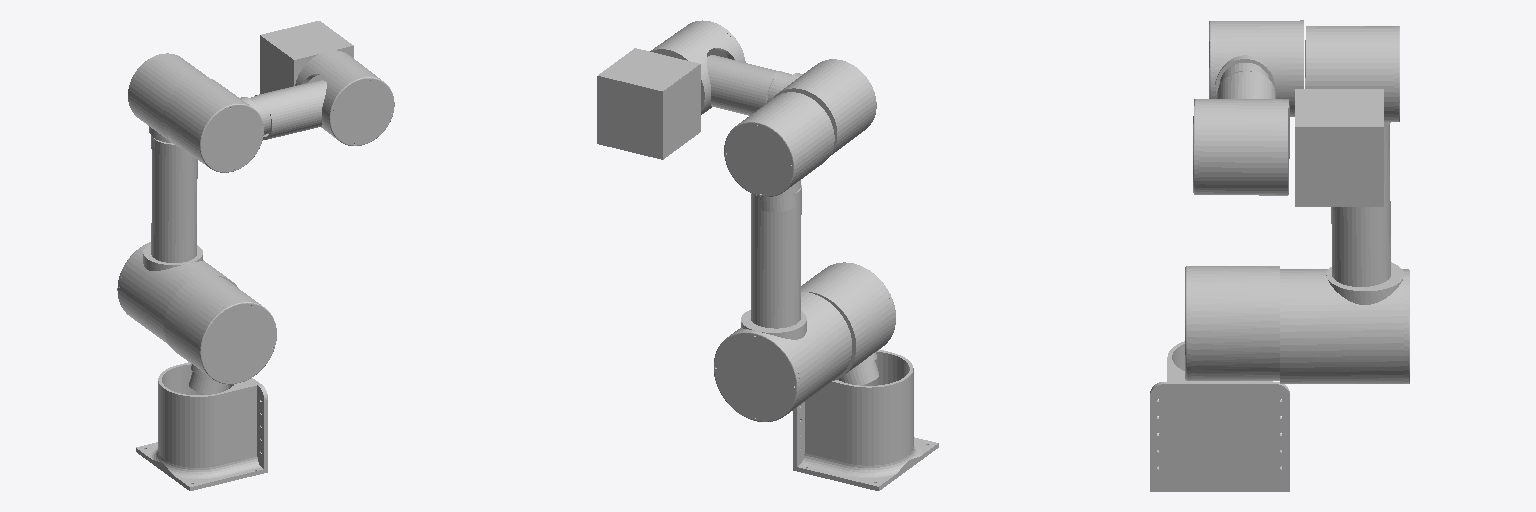
The robot description file, URDF, robot "rover_arm":
<?xml version="1.0"?>
<robot name="rover_arm">
  <material name="mat_silver">
    <color rgba="0.8 0.8 0.8 1"/>
  </material>

  <link name="world" />
  
  
  
  

  <link name="base_link">
    <visual>
      <origin xyz="0 0 0.07" rpy="3.1415 0 0"/>
      <geometry>
        <mesh filename="package://rover_arm/meshes/Joint1.stl" scale="1 1 1"/>
      </geometry>
      <material name="mat_silver"/>
    </visual>
    <visual>
      <origin xyz="0.02 0.017 0.23" rpy="-1.5707 0.16 0"/>
      <geometry>
        <mesh filename="package://rover_arm/meshes/Connector1.stl" scale="1 1 1"/>
      </geometry>
      <material name="mat_silver"/>
    </visual>
    <collision>
      <origin xyz="0 0 0.16" rpy="0 0 0" />
      <geometry>
        <box size="0.15 0.15 0.32" />
      </geometry>
    </collision>
    <inertial>
      <mass value="10"/>
      <inertia ixx="0.002" ixy="0.0" ixz="0.0" iyy="0.002" iyz="0.0" izz="0.0005"/>
    </inertial>
  </link>

  <link name="link1">
    <visual>
      <origin xyz="0 0 0" rpy="-1.568 -1.2 0 " />
      <geometry>
         <mesh filename="package://rover_arm/meshes/Joint2.stl" scale="1 1 1"/>
      </geometry>
      <material name="mat_silver" />
    </visual>
    <visual>
      <origin xyz="0 0.01 0.19" rpy="-1.56 0 0" />
      <geometry>
        <mesh filename="package://rover_arm/meshes/Link1.stl" scale="1 1 1"/>
      </geometry>
      <material name="mat_silver" />
    </visual>
    <visual>
      <origin xyz="0 0 0.363" rpy="1.568 0 0" />
      <geometry>
         <mesh filename="package://rover_arm/meshes/Connector2.stl" scale="1 1 1"/>
      </geometry>
      <material name="mat_silver" />
    </visual>
    <collision>
      <origin xyz="0 0 0.18" rpy="0 0 0" />
      <geometry>
       <box size="0.14 0.135 0.53" />
      </geometry>
    </collision>
    <inertial>
      <mass value="1"/>
      <inertia ixx="0.0004" ixy="0.0" ixz="0.0" iyy="0.0006" iyz="0.0" izz="0.00004"/>
    </inertial>
  </link>

  <link name="link2">
    <visual>
      <origin xyz="0.01 0.08 0.001" rpy="1.57 3.3 0.01" />
      <geometry>
        <mesh filename="package://rover_arm/meshes/Joint3.stl" scale="1 1 1"/>
     </geometry>
     <material name="mat_silver" />
    </visual>
    <visual>
      <origin xyz="0.15 0.075 0" rpy="0 0 1.56" />
      <geometry>
        <mesh filename="package://rover_arm/meshes/Link2.stl" scale="1 1 1"/>
     </geometry>
     <material name="mat_silver" />
    </visual>
    <visual>
     <origin xyz="0.255 0.07 0" rpy="1.55 -1.6 0" />
     <geometry>
        <mesh filename="package://rover_arm/meshes/Connector3.stl" scale="1 1 1"/>
     </geometry>
     <material name="mat_silver" />
    </visual>
    <collision>
      <origin xyz="0.13 0.05 0" rpy="0 0 0" />
      <geometry>
       <box size="0.385 0.14 0.15" />
     </geometry>
    </collision>
    <inertial>
     <mass value="1"/>
     <inertia ixx="0.00004" ixy="0.0" ixz="0.0" iyy="0.0003" iyz="0.0" izz="0.0003"/>
   </inertial>
  </link>

  <link name="link3">
    <visual>
        <origin xyz="0 0.001 0" rpy="0 0 0" />
        <geometry>
         <box size="0.12 0.12 0.12" />
        </geometry>
        <material name="mat_silver" />
    </visual>
    <collision>
      <origin xyz="0 0.01 0" rpy="0 0 0" />
      <geometry>
        <box size="0.12 0.12 0.12" />
      </geometry>
    </collision>
    <inertial>
      <mass value="1"/>
      <inertia ixx="0.000042" ixy="0.0" ixz="0.0" iyy="0.000042" iyz="0.0" izz="0.000042"/>
    </inertial>
  </link>

  <joint name="joint1" type="continuous">
    <parent link="world" />
    <child link="base_link" />
    <origin xyz="0 0 0" rpy="0 0 0" />
    <axis xyz="0 0 1" />
    <limit velocity="100" effort="100" />
    
  </joint>

  <joint name="joint2" type="revolute">
    <parent link="base_link" />
    <child link="link1" />
    <origin xyz="0.03 0.18 0.24" rpy="0 0 0" />
    <axis xyz="0 -1 0" />
    <limit lower="-1.5707" upper="0" velocity="100" effort="100" />
  </joint>

  <joint name="joint3" type="revolute">
    <parent link="link1" />
    <child link="link2" />
    <origin xyz="0 -0.22 0.38" rpy="0 0 0" />
    <axis xyz="0 1 0" />
    <limit lower="-1.5707" upper="1.5707" velocity="100" effort="100" />
  </joint>

  <joint name="joint4" type="revolute">
      <parent link="link2" />
      <child link="link3" />
      <origin xyz="0.25 0.2 0" rpy="0 0 0" />
      <axis xyz="0 1 0" />
      <limit lower="-1.5707" upper="1.5707" velocity="100" effort="100" />
  </joint>

  <transmission name="tran1">
    <type>transmission_interface/SimpleTransmission</type>
    <joint name="joint1">
      <hardwareInterface>hardware_interface/EffortJointInterface</hardwareInterface>
    </joint>
    <actuator name="motor1">
      <hardwareInterface>hardware_interface/EffortJointInterface</hardwareInterface>
      <mechanicalReduction>1</mechanicalReduction>
    </actuator>
  </transmission>

  <transmission name="tran2">
    <type>transmission_interface/SimpleTransmission</type>
    <joint name="joint2">
      <hardwareInterface>hardware_interface/EffortJointInterface</hardwareInterface>
    </joint>
    <actuator name="motor2">
      <hardwareInterface>hardware_interface/EffortJointInterface</hardwareInterface>
      <mechanicalReduction>1</mechanicalReduction>
    </actuator>
  </transmission>

  <transmission name="tran3">
    <type>transmission_interface/SimpleTransmission</type>
    <joint name="joint3">
      <hardwareInterface>hardware_interface/EffortJointInterface</hardwareInterface>
    </joint>
    <actuator name="motor3">
      <hardwareInterface>hardware_interface/EffortJointInterface</hardwareInterface>
      <mechanicalReduction>1</mechanicalReduction>
    </actuator>
  </transmission>

  
  <transmission name="tran4">
    <type>transmission_interface/SimpleTransmission</type>
    <joint name="joint4">
      <hardwareInterface>hardware_interface/EffortJointInterface</hardwareInterface>
    </joint>
    <actuator name="motor4">
      <hardwareInterface>hardware_interface/EffortJointInterface</hardwareInterface>
      <mechanicalReduction>1</mechanicalReduction>
    </actuator>
  </transmission>
  
  <gazebo>
    <plugin name="gazebo_ros_control" filename="libgazebo_ros_control.so">
      <robotNamespace>/</robotNamespace>
    </plugin>
  </gazebo>

  
 
</robot>

--- What the picture shows (computed from the rendered views, not written in the file) ---
3 views of the same robot in one strip: view 1: azimuth 30°, elevation 25°; view 2: azimuth 150°, elevation 25°; view 3: azimuth 270°, elevation 25° (orthographic).
Model rover_arm with 5 links and 4 joints (3 revolute, 1 continuous), rooted at world, posed every joint at zero.
Links seen in each view (by area): view 1: base_link, link2, link1, link3; view 2: link1, base_link, link2, link3; view 3: base_link, link1, link2, link3.
Boxes of the visible links, x1,y1,x2,y2 form: base_link: [136, 276, 276, 490]; link2: [163, 50, 394, 172]; link1: [117, 53, 237, 344]; link3: [260, 21, 353, 93]; link1: [714, 92, 851, 421]; base_link: [793, 262, 938, 490]; link2: [650, 20, 876, 155]; link3: [597, 48, 700, 159]; base_link: [1150, 266, 1289, 491]; link1: [1280, 26, 1409, 383]; link2: [1193, 20, 1303, 195]; link3: [1295, 89, 1383, 206].
Size in the robot's own frame: 0.4499 by 0.3518 by 0.6831 metres.
8 mesh visuals loaded from 8 distinct referenced files (8 binary STL).
